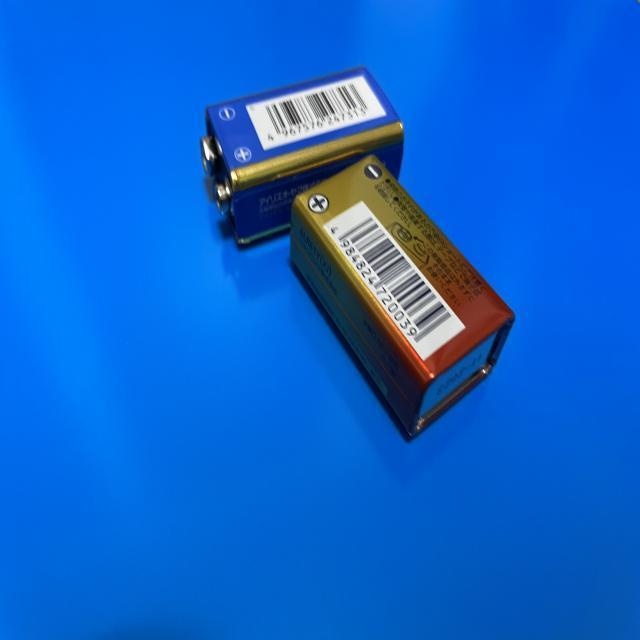9V: (290, 154, 518, 440), (201, 65, 405, 248)
